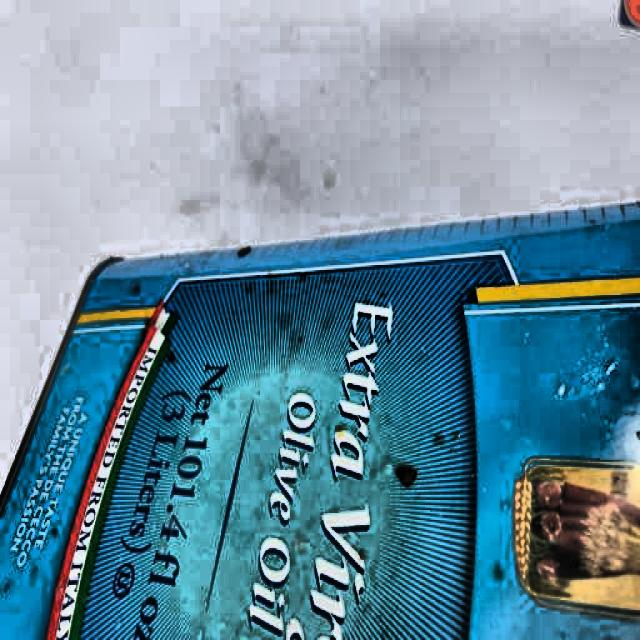metal: (7, 215, 640, 640)
